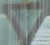Give way: (2, 1, 48, 44)
